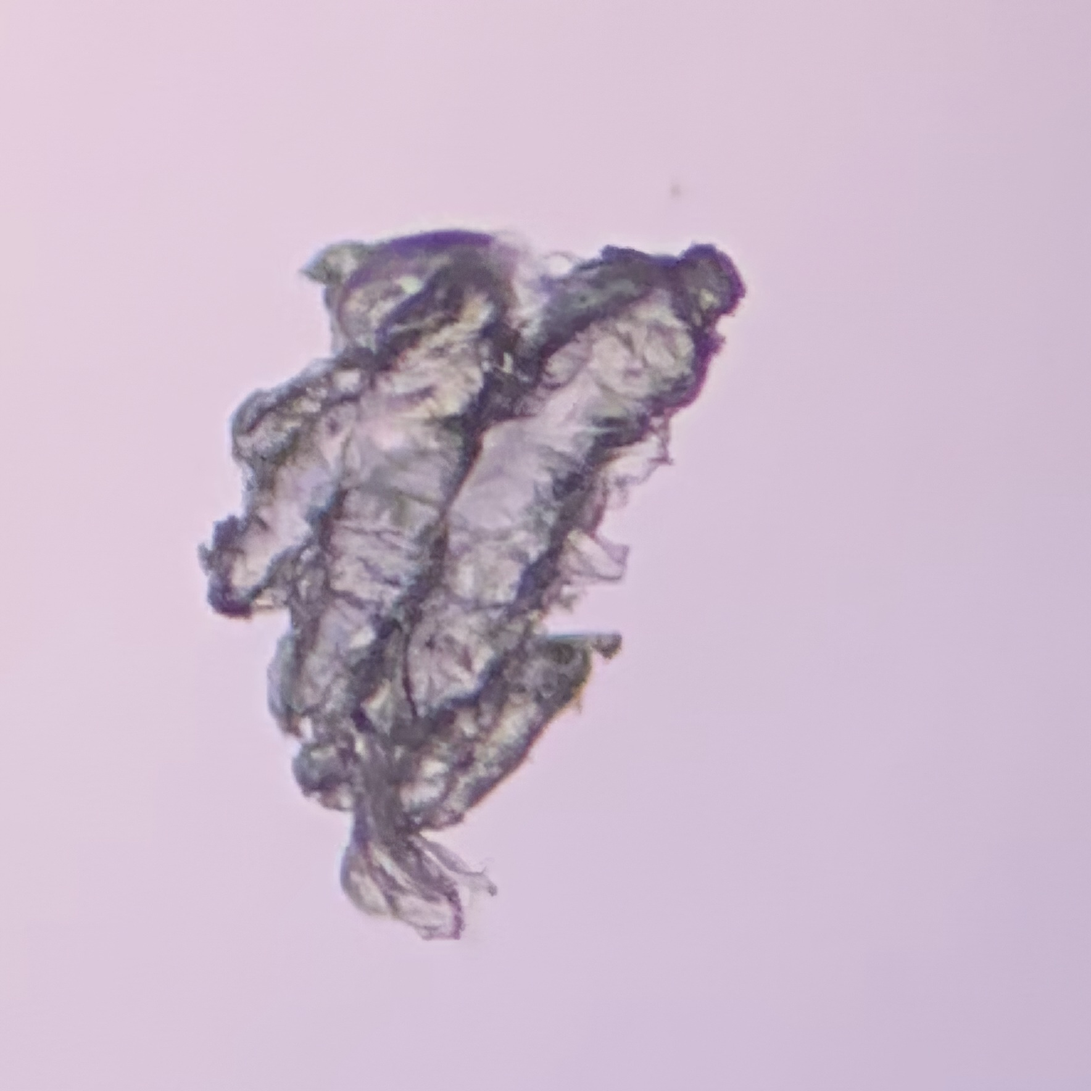microplastic: (196, 234, 749, 940)
